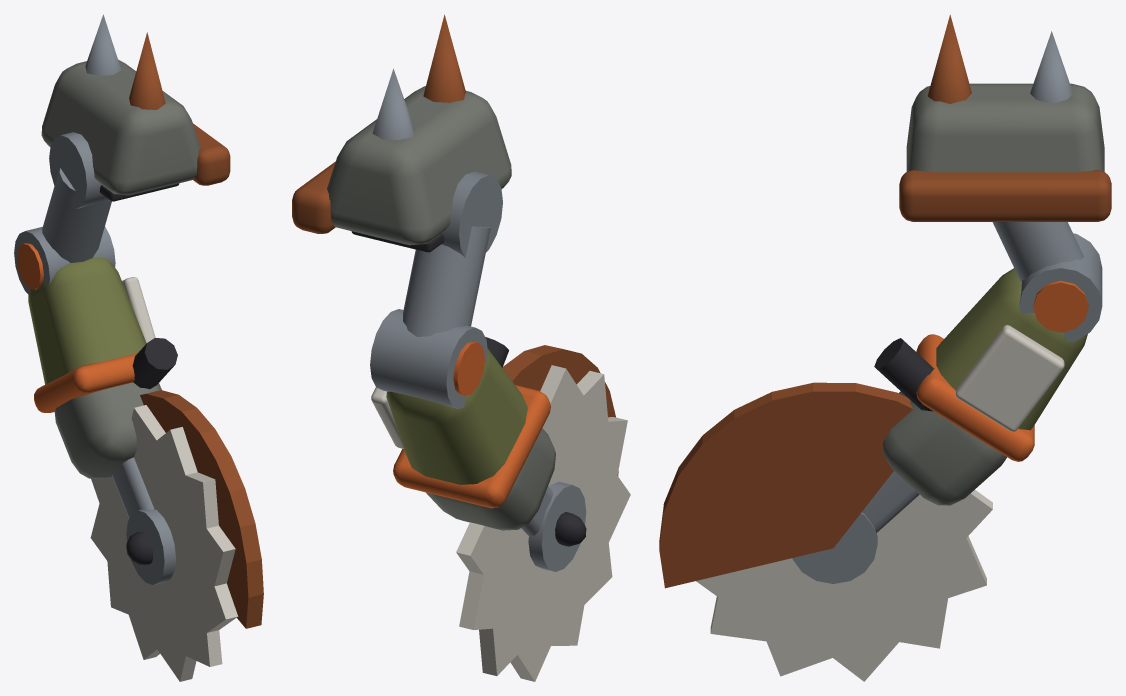
Rendered from ar_saw.glb.
The picture shows the model from 3 angles, left to right: view 1: azimuth 30°, elevation 25°; view 2: azimuth 150°, elevation 25°; view 3: azimuth 270°, elevation 25°; orthographic projection. The views are drawn at different scales.
Parts seen in each view (by area): view 1: ar_saw; view 2: ar_saw; view 3: ar_saw.
Boxes of the visible parts, box(x1,y1,x2,y2) form: ar_saw: box(14, 14, 263, 681); ar_saw: box(292, 14, 630, 681); ar_saw: box(659, 14, 1111, 681).
Bounding box in the file's own units: 0.1828 × 0.7033 × 0.4216.
